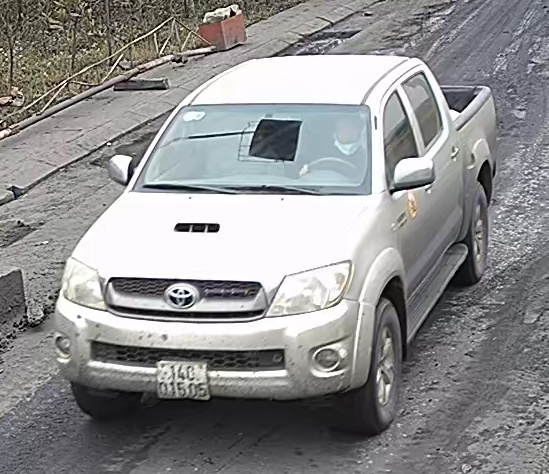vehicle plate: (152, 354, 213, 401)
